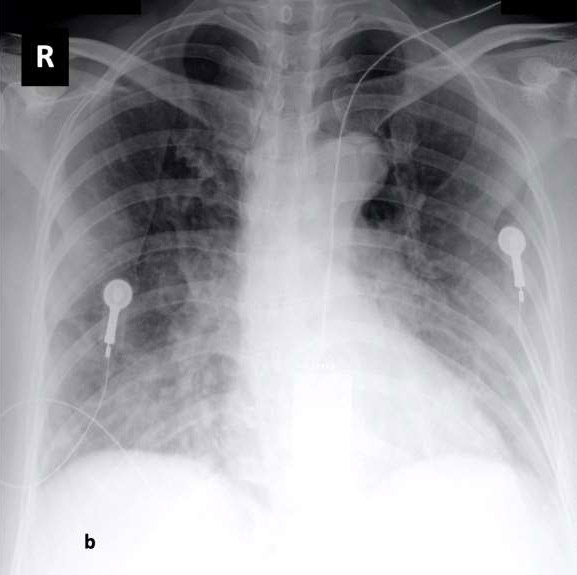Severe: (335, 26, 551, 456), (43, 26, 242, 460)
